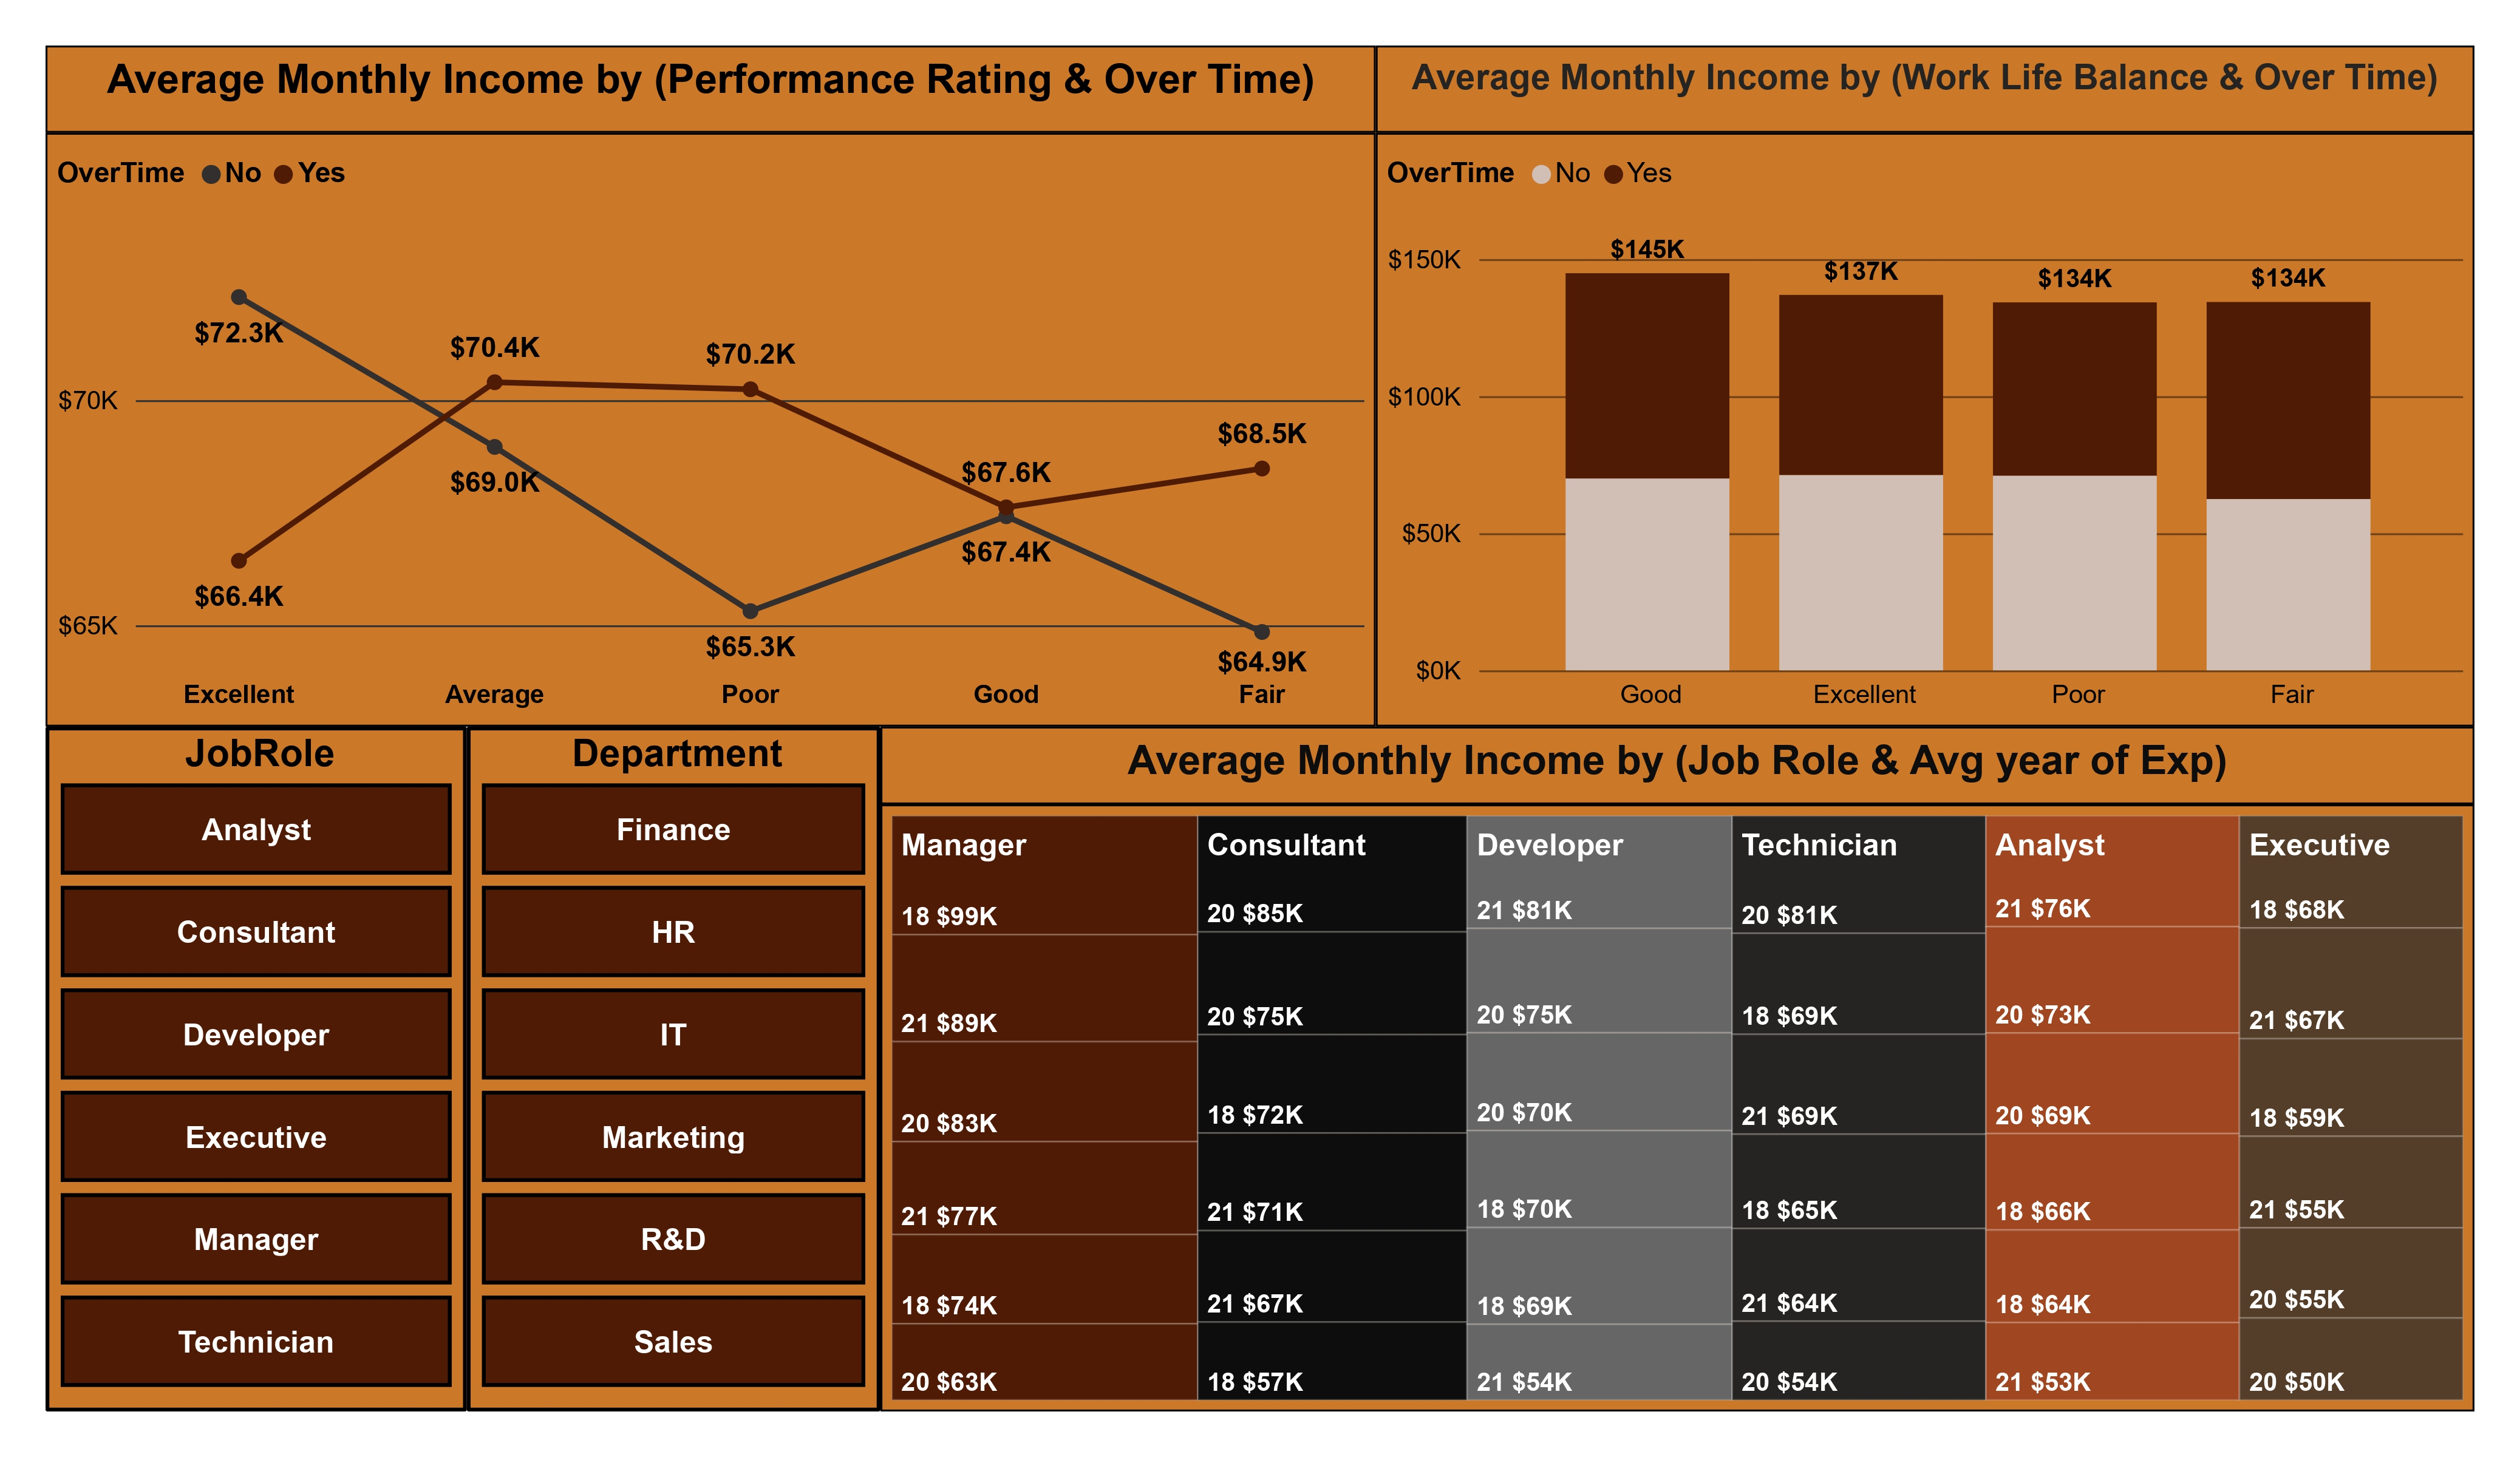

The dashboard page shown, as its layout file describes it:
{"tool":"powerbi","page":{"name":"Page 2","canvas":[1280,720],"ordinal":2},"visuals":[{"type":"lineChart","fields":{"Category":["HR employee dataset.Performance Rating"],"Y":["Avg(HR employee dataset.MonthlyIncome)"],"Series":["HR employee dataset.OverTime"]},"box":[0,46.2,701.3,313.1],"z":0},{"type":"textbox","box":[0,0,701.1,45.8],"z":1000},{"type":"lineStackedColumnComboChart","fields":{"Category":["HR employee dataset.Work Lifebalance"],"Y":["Avg(HR employee dataset.MonthlyIncome)"],"Series":["HR employee dataset.OverTime"]},"box":[701.3,46.2,578.7,313.1],"z":1001},{"type":"textbox","box":[701.1,0,578.9,45.8],"z":1002},{"type":"listSlicer","fields":{"Values":["HR employee dataset.JobRole"]},"box":[0,359.3,222.2,360.8],"z":1003},{"type":"listSlicer","fields":{"Values":["HR employee dataset.Department"]},"box":[222.2,359.3,217.9,360.8],"z":1004},{"type":"treemap","fields":{"Group":["HR employee dataset.JobRole"],"Values":["Avg(HR employee dataset.MonthlyIncome)"],"Details":["Department Summary.Avg year of Exp"]},"box":[440.1,399.7,839.9,320.4],"z":1005},{"type":"textbox","box":[440.1,359.3,839.9,40.4],"z":1006}]}

Visuals, with their boxes on the page's 1280x720 design canvas (x1, y1, x2, y2). These are canvas units, not pixel positions in the 2520x1457 screenshot, which may show the page scaled, cropped or inside an application window:
lineChart - HR employee dataset.Performance Rating x Avg(HR employee dataset.MonthlyIncome): (x1=0, y1=46, x2=701, y2=359)
textbox: (x1=0, y1=0, x2=701, y2=46)
lineStackedColumnComboChart - HR employee dataset.Work Lifebalance x Avg(HR employee dataset.MonthlyIncome): (x1=701, y1=46, x2=1280, y2=359)
textbox: (x1=701, y1=0, x2=1280, y2=46)
listSlicer - HR employee dataset.JobRole: (x1=0, y1=359, x2=222, y2=720)
listSlicer - HR employee dataset.Department: (x1=222, y1=359, x2=440, y2=720)
treemap - HR employee dataset.JobRole x Avg(HR employee dataset.MonthlyIncome): (x1=440, y1=400, x2=1280, y2=720)
textbox: (x1=440, y1=359, x2=1280, y2=400)
